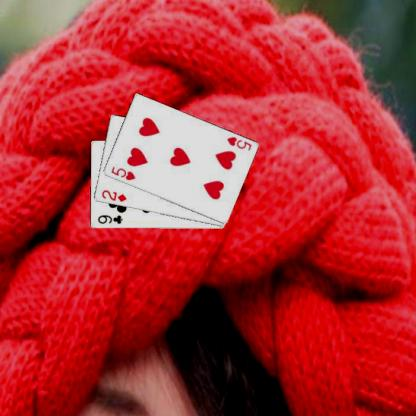2D: (99, 188, 127, 203)
5H: (224, 134, 253, 152), (108, 164, 136, 182)
9C: (95, 213, 124, 225)
